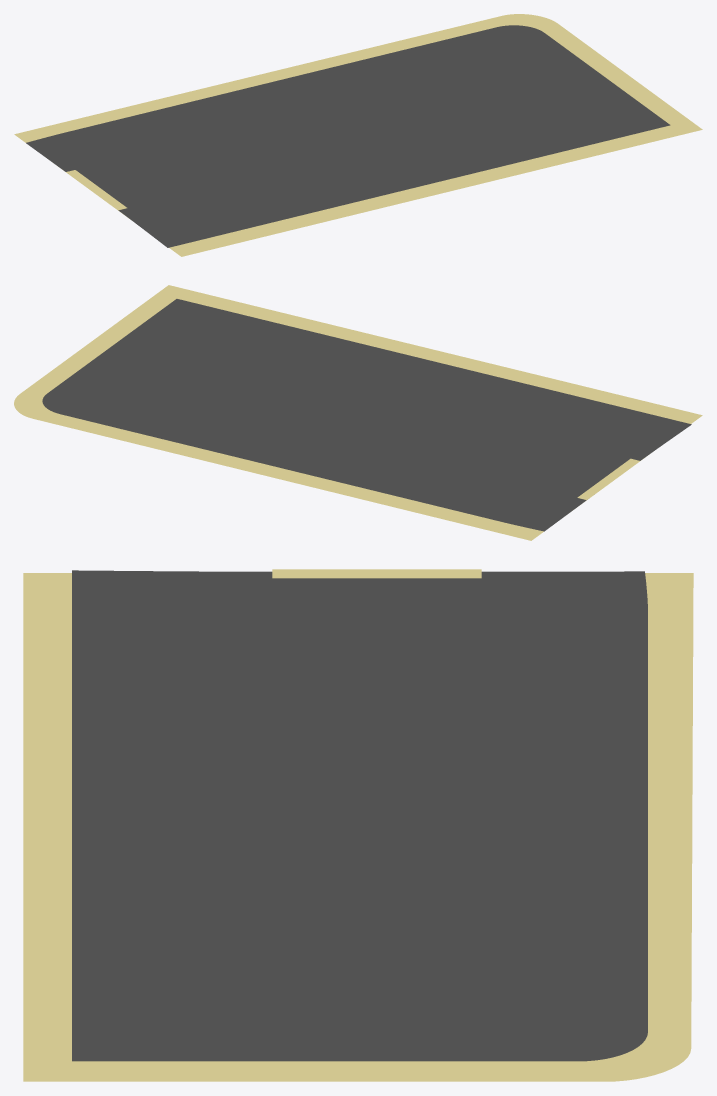
The model's file is InventoryPanel button right.fbx.
3 renders of one model, top to bottom at view 1: azimuth 30°, elevation 25°; view 2: azimuth 150°, elevation 25°; view 3: azimuth 270°, elevation 25°, orthographic. The views are drawn at different scales.
Parts seen in each view (by area): view 1: Curve.001, Curve, Curve.002; view 2: Curve.001, Curve, Curve.002; view 3: Curve.001, Curve, Curve.002.
Boxes of the visible parts, x1,y1,x2,y2 form: Curve.001: (26, 25, 670, 247); Curve: (14, 14, 702, 256); Curve.002: (66, 170, 126, 210); Curve.001: (42, 299, 691, 531); Curve: (14, 285, 702, 540); Curve.002: (577, 458, 639, 499); Curve.001: (72, 570, 647, 1061); Curve: (23, 573, 693, 1081); Curve.002: (272, 569, 481, 578).
Bounding box in the file's own units: 12.64 × 0.03 × 7.01.
